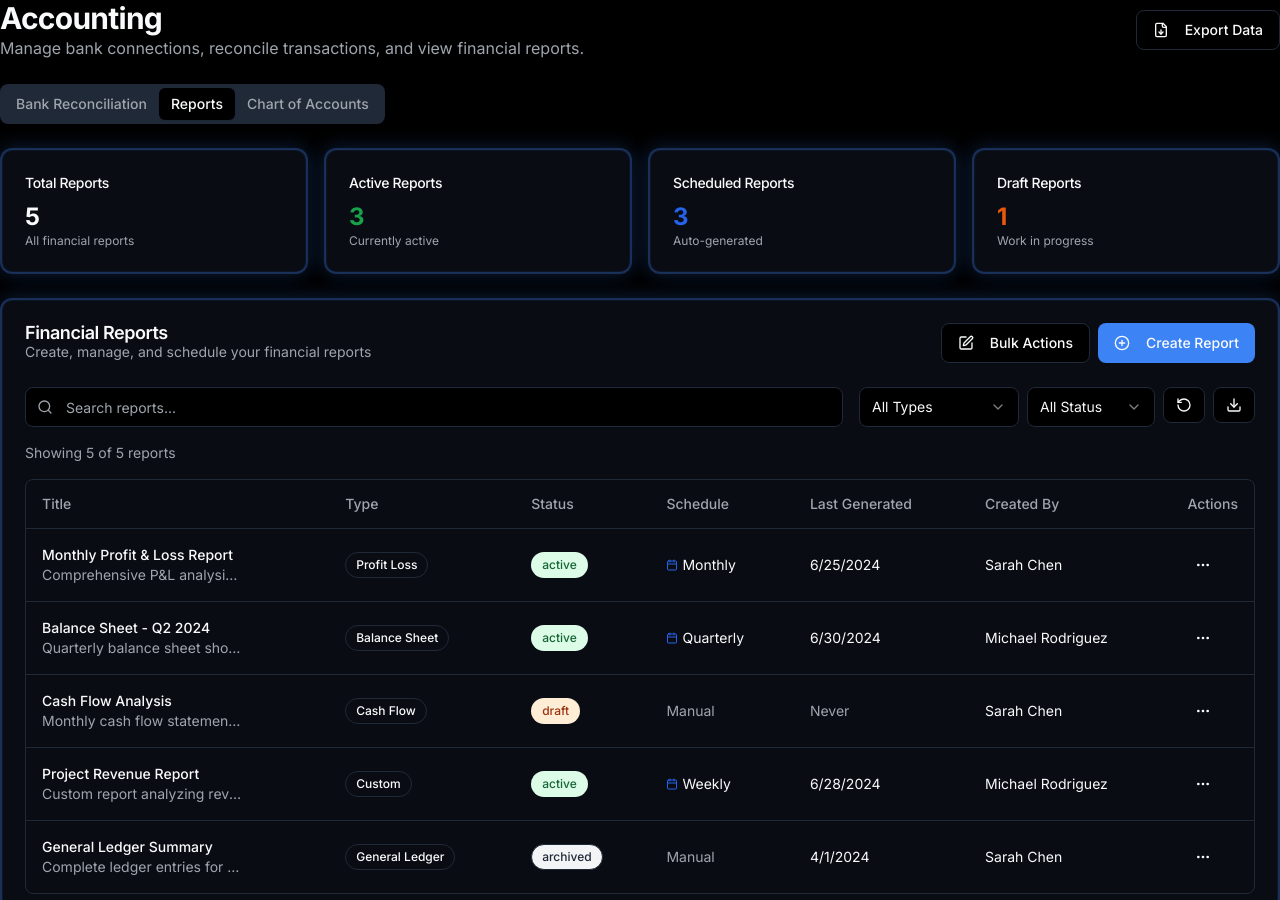
Test case: Reports CRUD Functionality › Accessibility › should support keyboard navigation
The width and height of the screenshot is (1280, 900).
# Navigate to reports tab
Click the tab "Reports" at (197, 104), box [159,88,235,120]
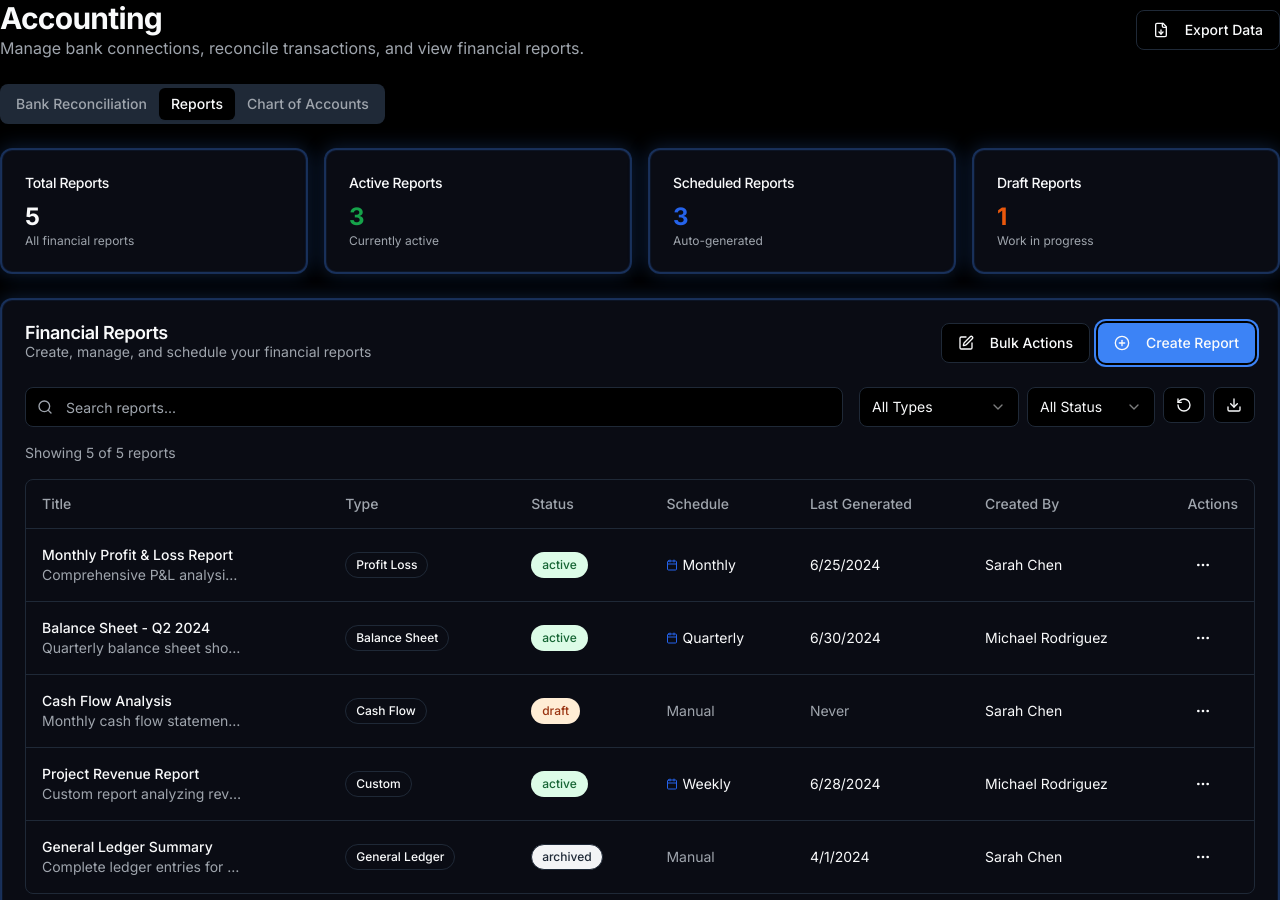
Press Enter
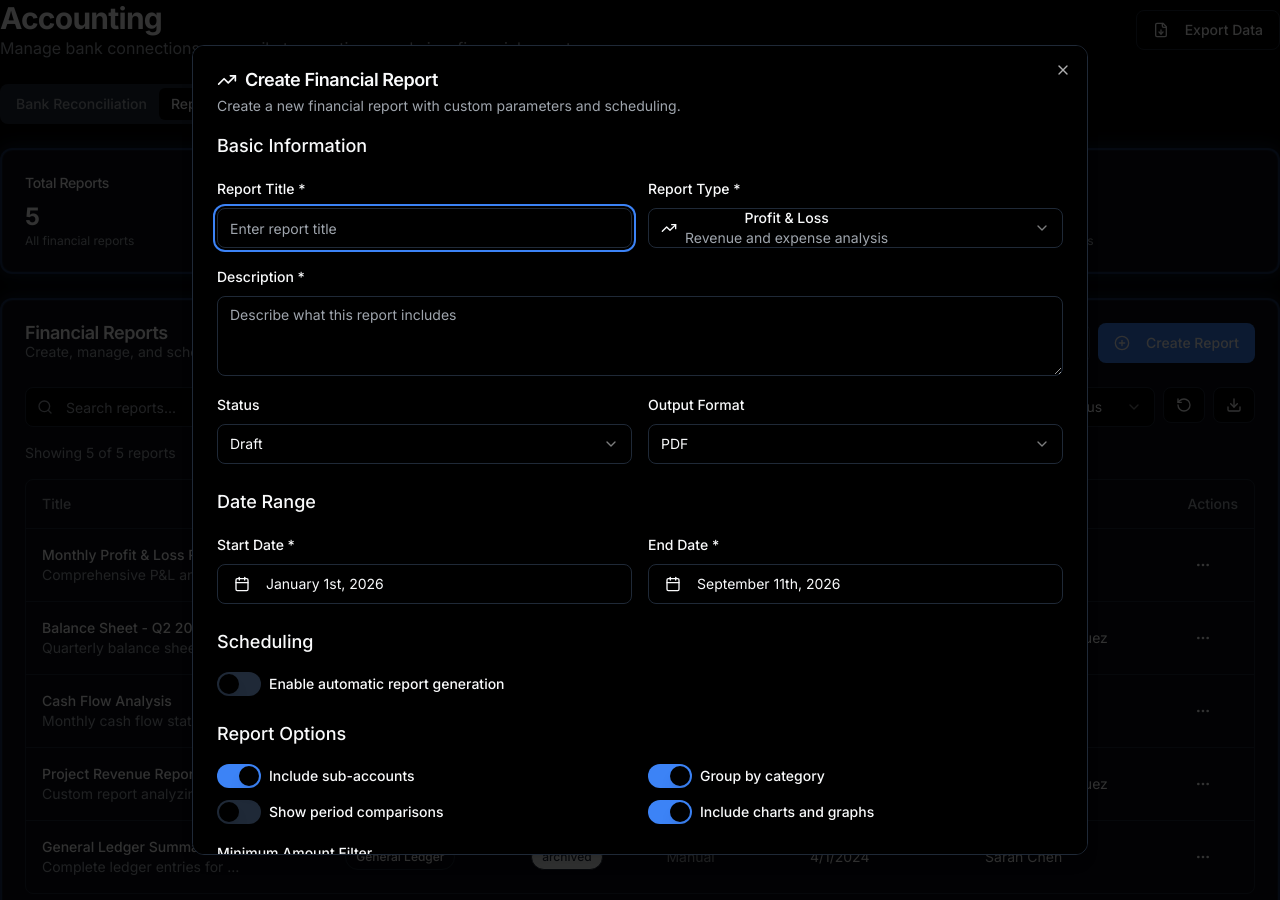
Expected: the heading "Create Financial Report" is shown, [217,69,438,90]
# Can close with Escape
Press Escape
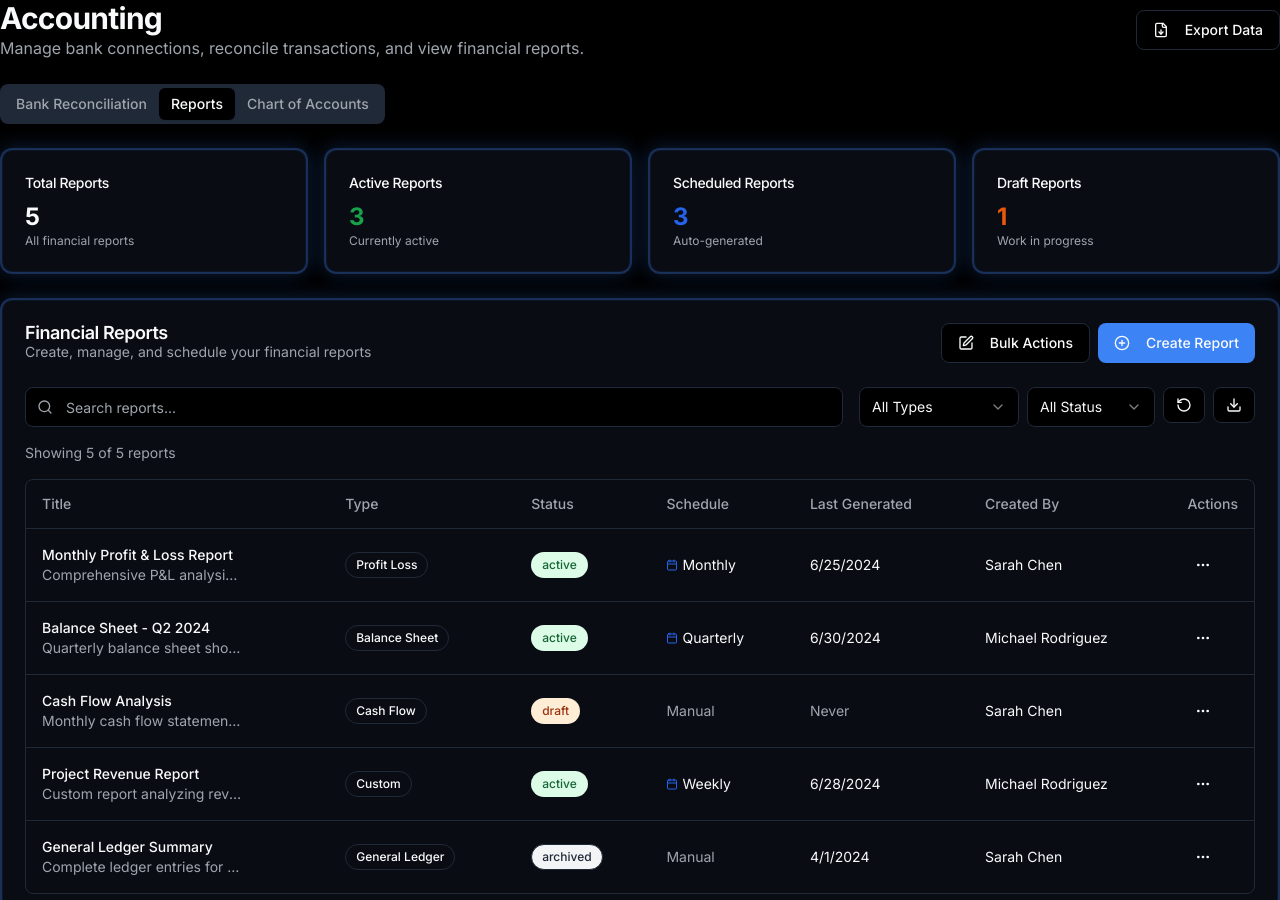
Expected: the heading "Create Financial Report" is gone
